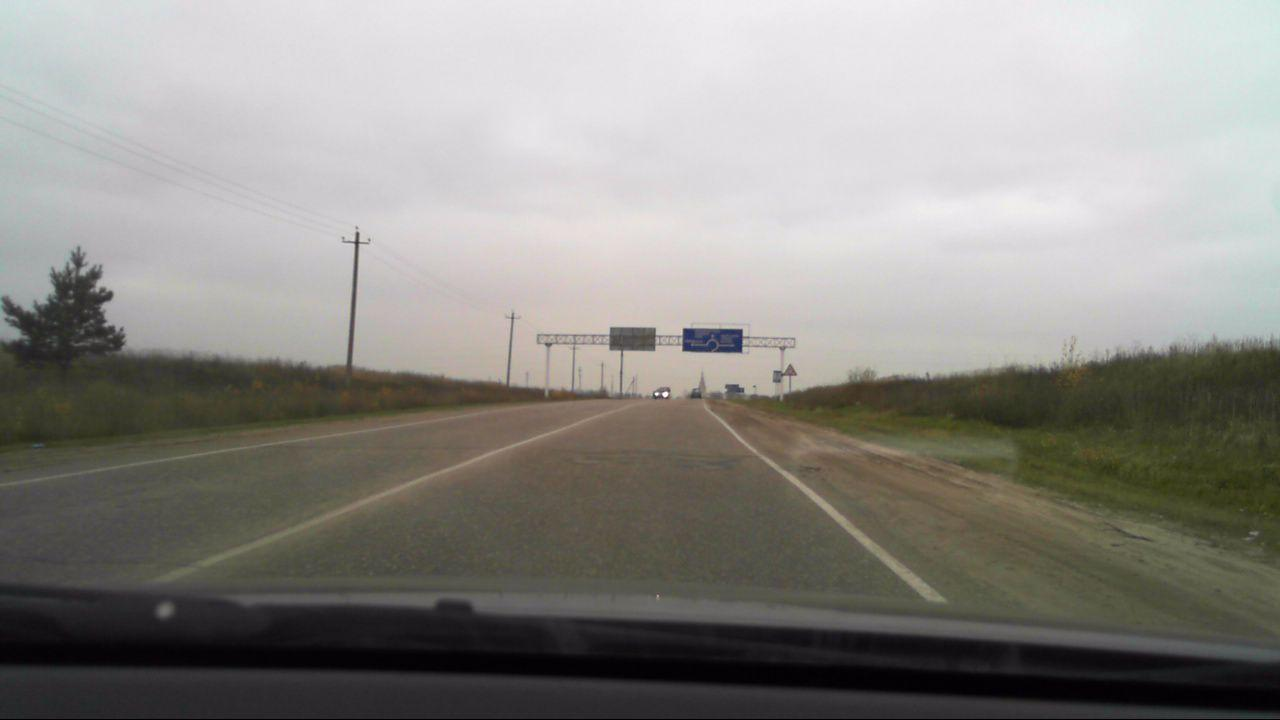1_7: (781, 361, 799, 378)
6_9_1: (680, 324, 747, 355)
